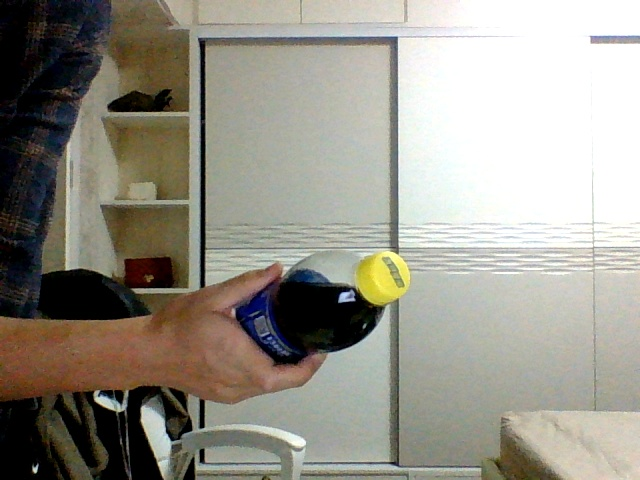Cola: (234, 248, 413, 363)
